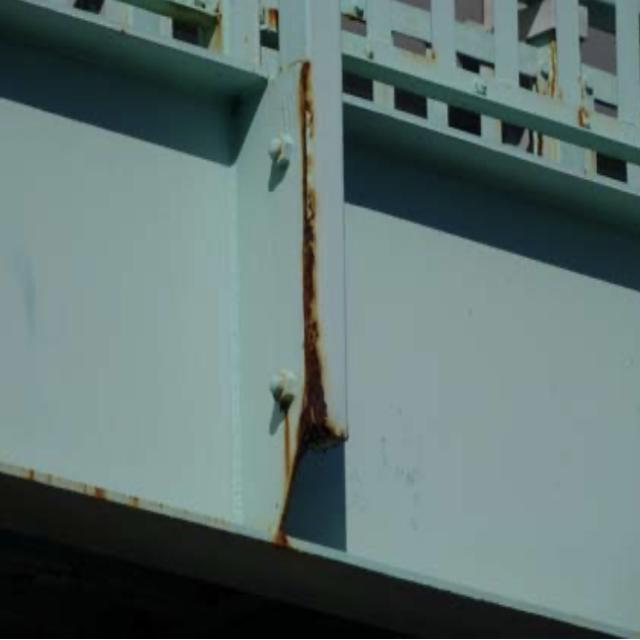corrosion: (283, 50, 351, 517)
